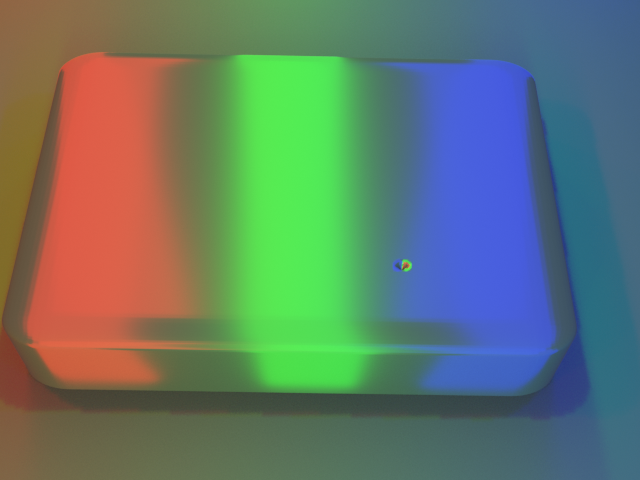dent: (389, 248, 430, 285)
